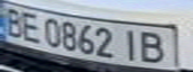0: (39, 16, 63, 48)
2: (93, 25, 118, 60)
6: (75, 22, 96, 56)
8: (57, 19, 78, 53)
B: (136, 29, 169, 65), (0, 4, 30, 38)
E: (18, 10, 45, 43)
I: (118, 27, 145, 63)
